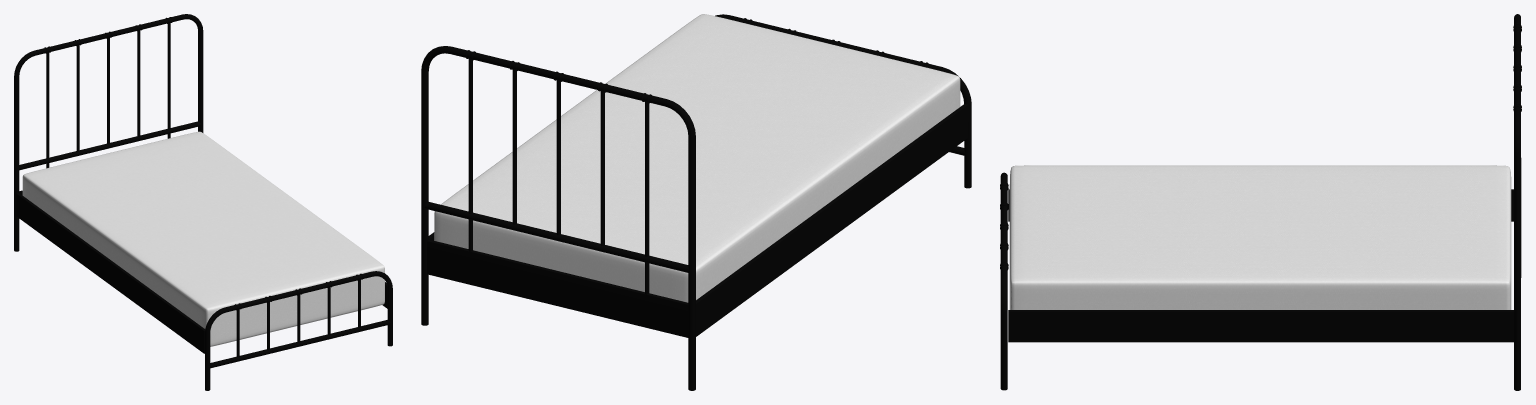
File: bed_01_03.fbx
3 renders of one model, left to right at view 1: azimuth 30°, elevation 25°; view 2: azimuth 150°, elevation 25°; view 3: azimuth 270°, elevation 25°, orthographic. The views are drawn at different scales.
Parts seen in each view (by area): view 1: bed_01_03.001; view 2: bed_01_03.001; view 3: bed_01_03.001.
Part boxes in pixels (x1,y1,x2,y2): bed_01_03.001: (14, 14, 392, 390); bed_01_03.001: (421, 14, 971, 390); bed_01_03.001: (1000, 14, 1521, 390).
Size of the model in its own units: 116 by 115 by 207.
Materials: 1 (1 with a texture image).
